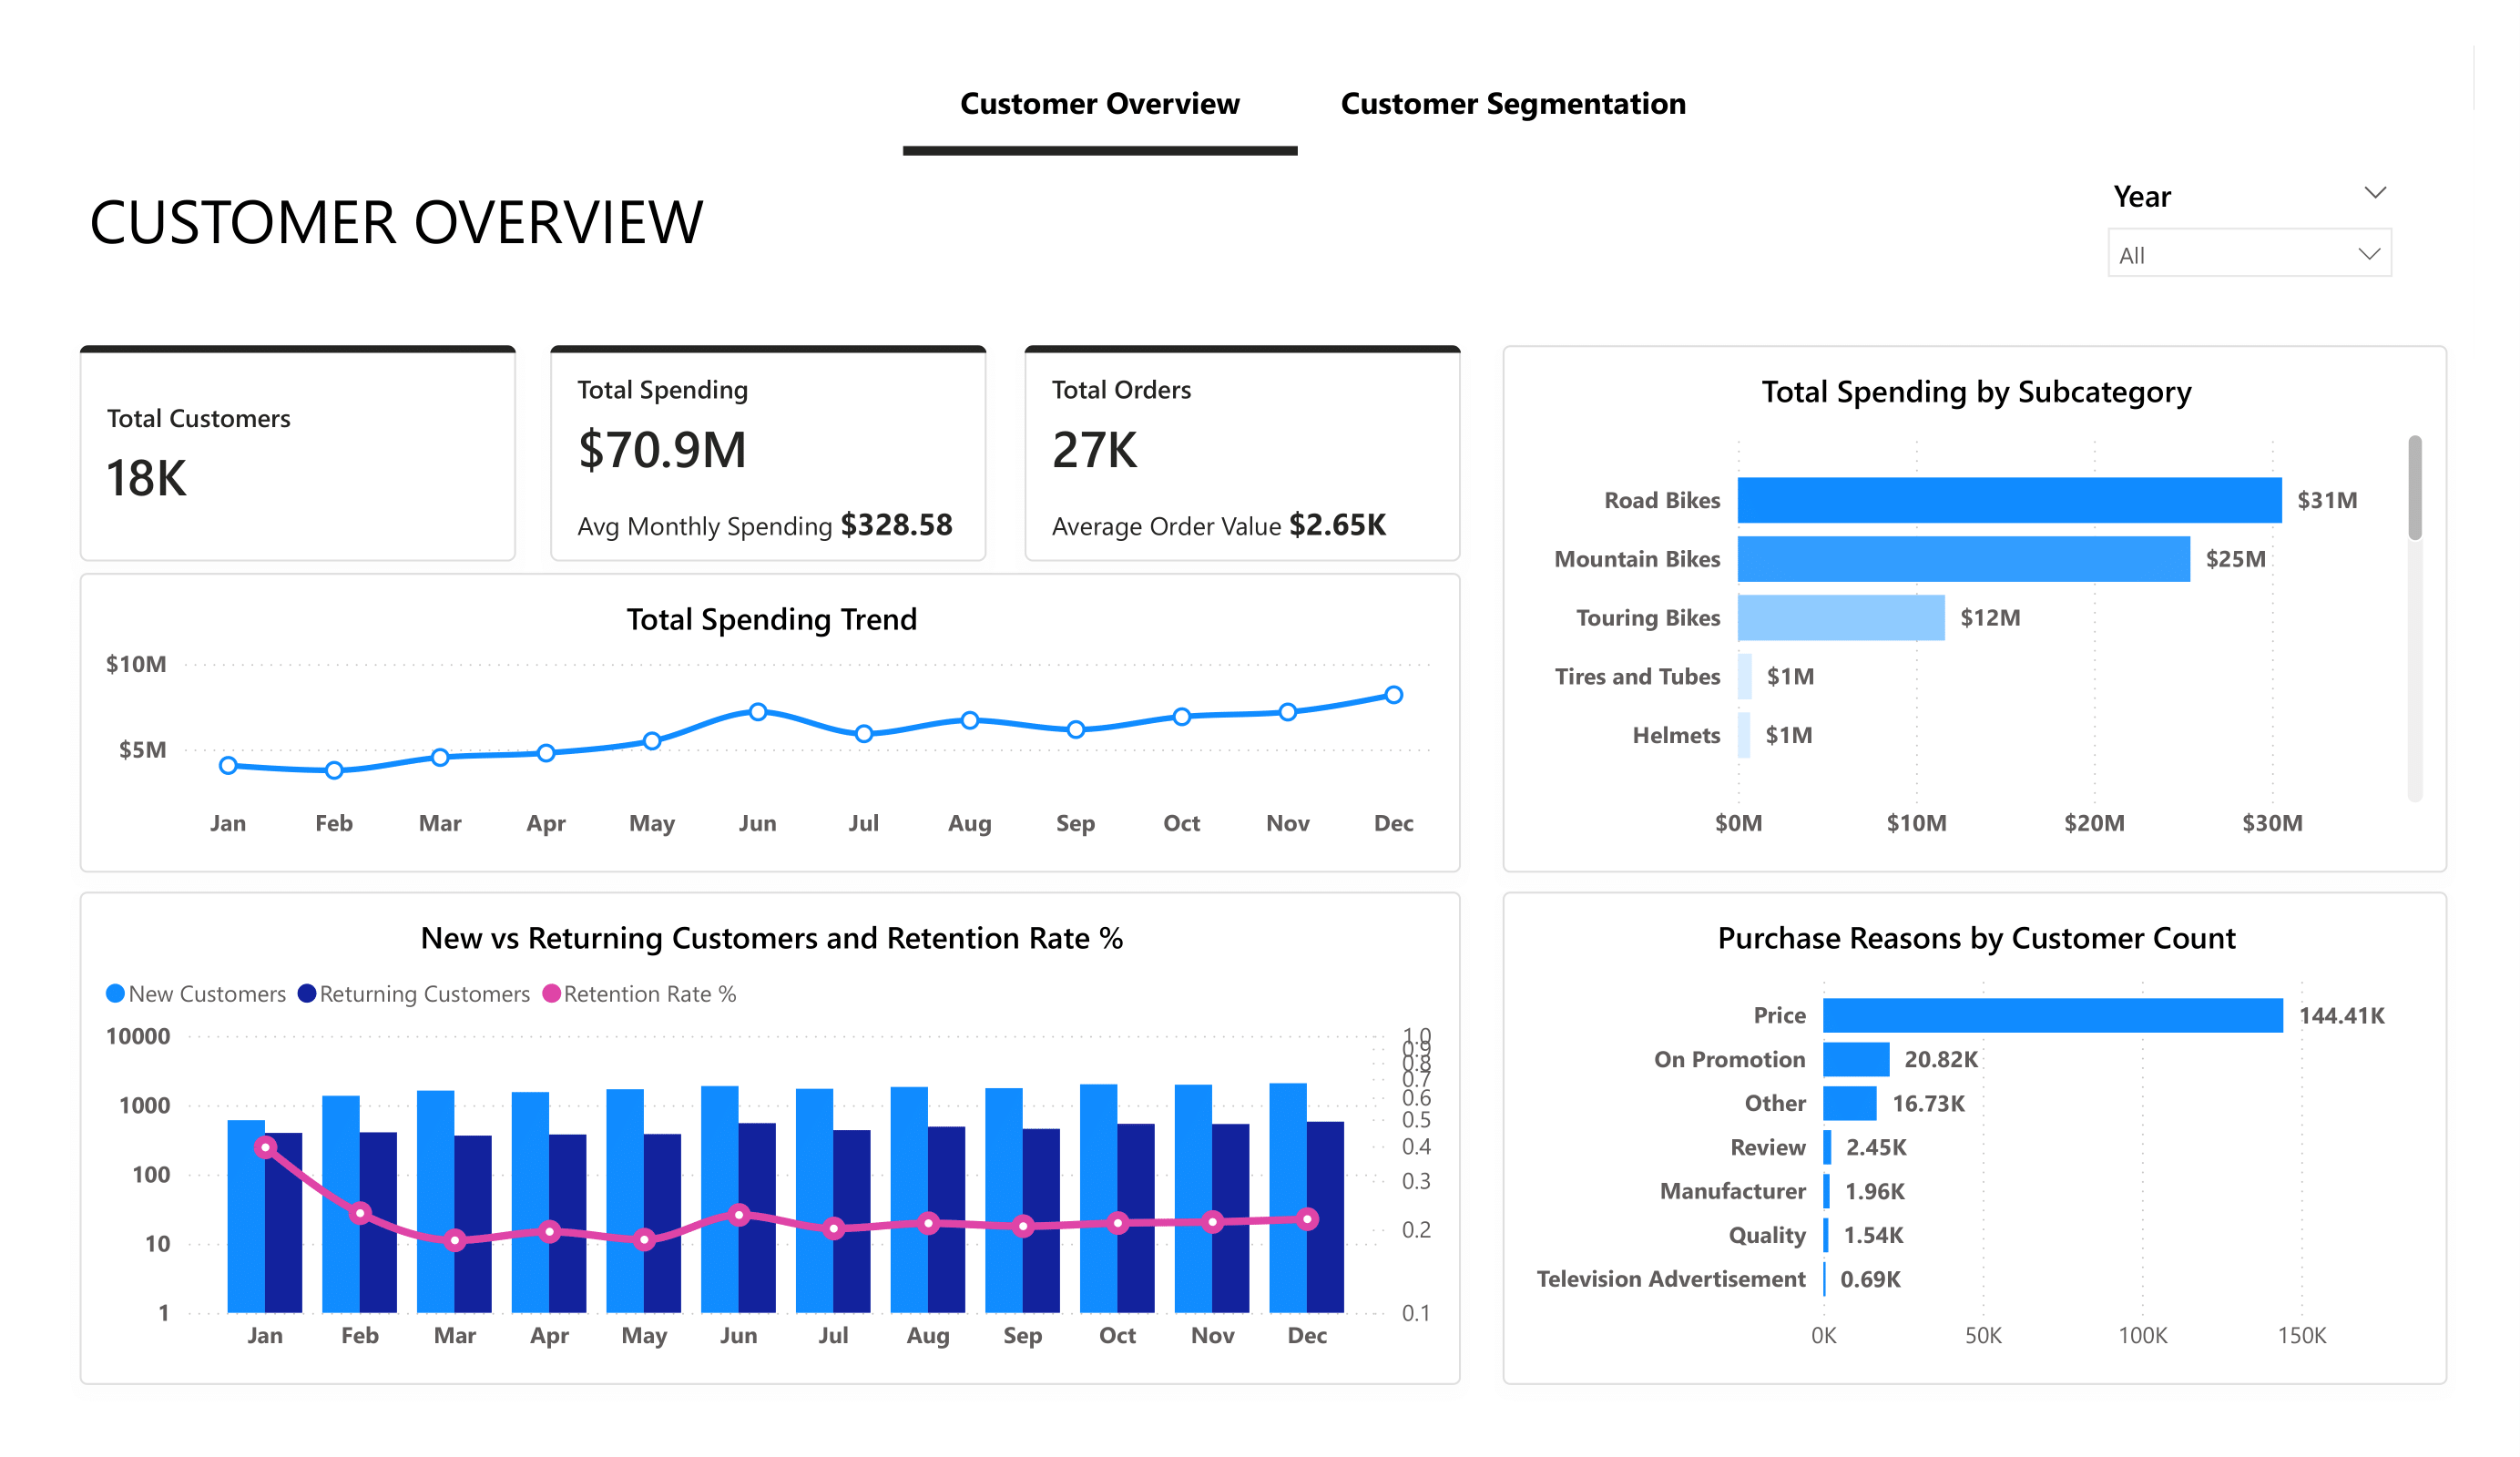

The dashboard page shown, as its layout file describes it:
{"tool":"powerbi","page":{"name":"Customer Overview","canvas":[1280,720],"ordinal":0},"visuals":[{"type":"cardVisual","fields":{"Data":["_Measures.Total Customers"]},"box":[18,158,230,114],"z":1000},{"type":"cardVisual","fields":{"Data":["_Measures.Total Spendings"]},"box":[266,158,230,114],"z":2000},{"type":"cardVisual","fields":{"Data":["_Measures.Total Orders"]},"box":[516,158,230,114],"z":3000},{"type":"lineChart","title":"Total Spending Trend","fields":{"Y":["_Measures.Total Spendings"],"Category":["Date_dim.Month_Abbrv"]},"box":[18,278,728,158],"z":4000},{"type":"lineClusteredColumnComboChart","title":"New vs Returning Customers and Retention Rate %","fields":{"Category":["Date_dim.Month_Abbrv"],"Y":["_Measures.New Customers","_Measures.Returning Customers"],"Y2":["_Measures.Retention Rate %"]},"box":[18,446,728,260],"z":5000},{"type":"barChart","fields":{"Category":["Product_dim.Subcategory"],"Y":["_Measures.Total Spendings"]},"box":[768,158,498,278],"z":6000},{"type":"barChart","title":"Purchase Reasons by Customer Count","fields":{"Category":["SalesReason _dim.SalesReasonName"],"Y":["CountNonNull(Sales_Fact.SalesReasonKey)"]},"box":[768,446,498,260],"z":7000},{"type":"textbox","box":[18,64,1248,78],"z":7500},{"type":"slicer","fields":{"Values":["Date_dim.CalendarYear"]},"box":[1082,68,160,74],"z":8000},{"type":"pageNavigator","box":[452,0,426,58],"z":9000}]}

Visuals, with their boxes on the page's 1280x720 design canvas (x1, y1, x2, y2). These are canvas units, not pixel positions in the 2520x1457 screenshot, which may show the page scaled, cropped or inside an application window:
cardVisual - _Measures.Total Customers: bbox=(18, 158, 248, 272)
cardVisual - _Measures.Total Spendings: bbox=(266, 158, 496, 272)
cardVisual - _Measures.Total Orders: bbox=(516, 158, 746, 272)
"Total Spending Trend" lineChart: bbox=(18, 278, 746, 436)
"New vs Returning Customers and Retention Rate %" lineClusteredColumnComboChart: bbox=(18, 446, 746, 706)
barChart - Product_dim.Subcategory x _Measures.Total Spendings: bbox=(768, 158, 1266, 436)
"Purchase Reasons by Customer Count" barChart: bbox=(768, 446, 1266, 706)
textbox: bbox=(18, 64, 1266, 142)
slicer - Date_dim.CalendarYear: bbox=(1082, 68, 1242, 142)
pageNavigator: bbox=(452, 0, 878, 58)
